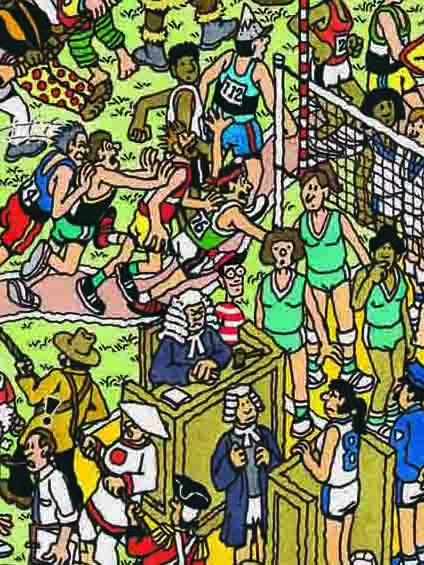waldo: (208, 248, 249, 298)
